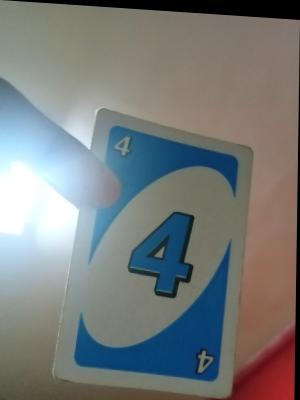blue: (99, 124, 227, 380)
num_4: (188, 338, 222, 377), (109, 126, 138, 159)
